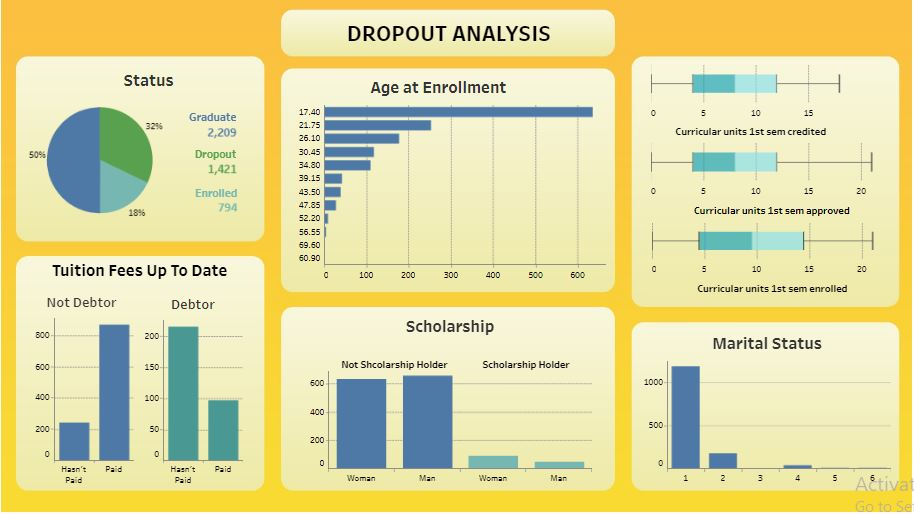

The dashboard page shown, as its layout file describes it:
{"tool":"tableau","page":{"name":"Dashboard 1","canvas":[1366,768],"ordinal":0},"visuals":[{"type":"title","box":[8,8,1350,42]},{"type":"text","box":[435,23,474,52]},{"type":"worksheet","title":"Status","mark":"Pie","box":[33,98,230,235]},{"type":"worksheet","title":"Sheet 8 (2)","mark":"Circle","rows":["Status"],"cols":["Curricular_units_1st_sem_credited"],"box":[975,98,299,115]},{"type":"worksheet","title":"Age at Enrollment","mark":"Automatic","rows":["Age at enrollment (bin)"],"cols":["Age_at_enrollment"],"box":[404,108,504,330]},{"type":"worksheet","title":"Sheet 11 (3)","mark":"Automatic","cols":["Status"],"box":[194,164,163,47]},{"type":"worksheet","title":"Sheet 8","mark":"Circle","rows":["Status"],"cols":["Curricular_units_1st_sem_approved"],"box":[975,215,362,116]},{"type":"worksheet","title":"Sheet 11","mark":"Automatic","cols":["Status"],"box":[223,220,134,45]},{"type":"worksheet","title":"Sheet 11 (2)","mark":"Automatic","cols":["Status"],"box":[210,278,148,45]},{"type":"worksheet","title":"Sheet 8 (3)","mark":"Circle","rows":["Status"],"cols":["Curricular_units_1st_sem_enrolled"],"box":[976,334,362,114]},{"type":"text","box":[68,391,280,30]},{"type":"worksheet","title":"Not Debtor","mark":"Automatic","rows":["Tuition_fees_up_to_date"],"cols":["Tuition_fees_up_to_date"],"box":[43,434,156,296]},{"type":"worksheet","title":"Debtor","mark":"Automatic","rows":["Tuition_fees_up_to_date"],"cols":["Tuition_fees_up_to_date"],"box":[213,437,181,293]},{"type":"worksheet","title":"Scholarship","mark":"Automatic","rows":["Scholarship_holder"],"cols":["Scholarship_holder","Gender"],"box":[461,467,425,258]},{"type":"worksheet","title":"Marital Status","mark":"Automatic","rows":["Gender"],"cols":["Marital_status"],"box":[963,492,372,233]}]}

Visuals, with their boxes in screenshot pixels (x1, y1, x2, y2), scaled from the page's 1366x768 canvas onto the 914x514 screenshot:
title: bbox=[5, 5, 909, 33]
text: bbox=[291, 15, 608, 50]
"Status" worksheet (Pie marks): bbox=[22, 66, 176, 223]
"Sheet 8 (2)" worksheet (Circle marks): bbox=[652, 66, 852, 143]
"Age at Enrollment" worksheet: bbox=[270, 72, 608, 293]
"Sheet 11 (3)" worksheet: bbox=[130, 110, 239, 141]
"Sheet 8" worksheet (Circle marks): bbox=[652, 144, 895, 222]
"Sheet 11" worksheet: bbox=[149, 147, 239, 177]
"Sheet 11 (2)" worksheet: bbox=[141, 186, 240, 216]
"Sheet 8 (3)" worksheet (Circle marks): bbox=[653, 224, 895, 300]
text: bbox=[45, 262, 233, 282]
"Not Debtor" worksheet: bbox=[29, 290, 133, 489]
"Debtor" worksheet: bbox=[143, 292, 264, 489]
"Scholarship" worksheet: bbox=[308, 313, 593, 485]
"Marital Status" worksheet: bbox=[644, 329, 893, 485]
